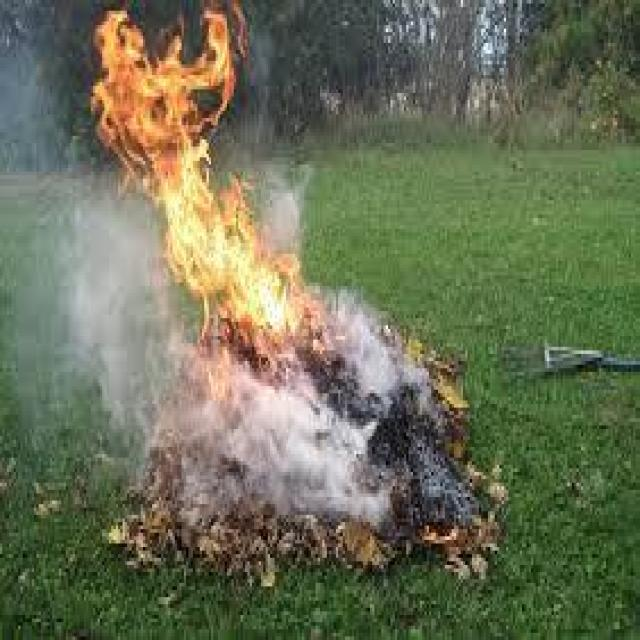fire: (86, 1, 334, 354)
